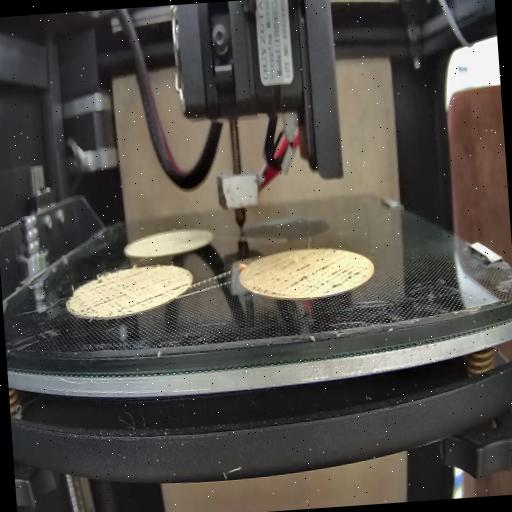under_extrusion: (248, 260, 364, 296), (73, 272, 127, 324), (128, 286, 193, 310)
